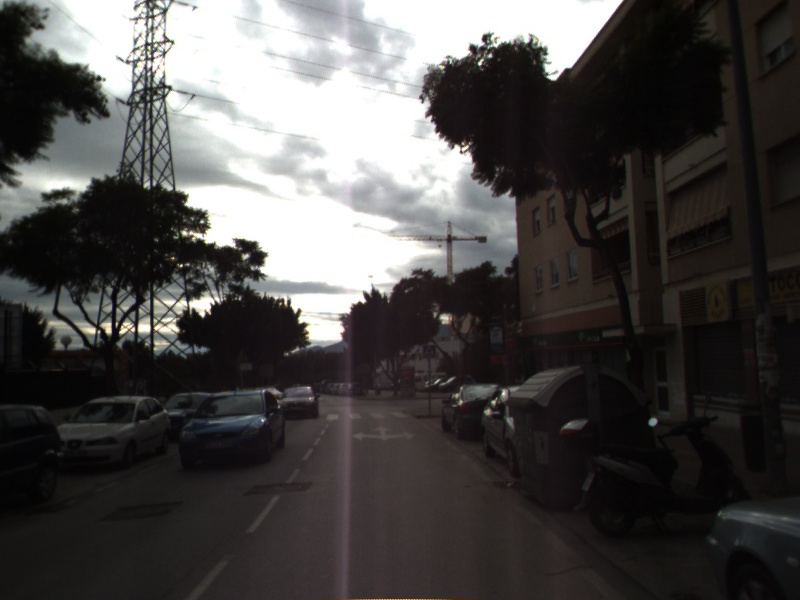STRAIGHT_LEFT_RIGHT: (350, 423, 418, 443)
